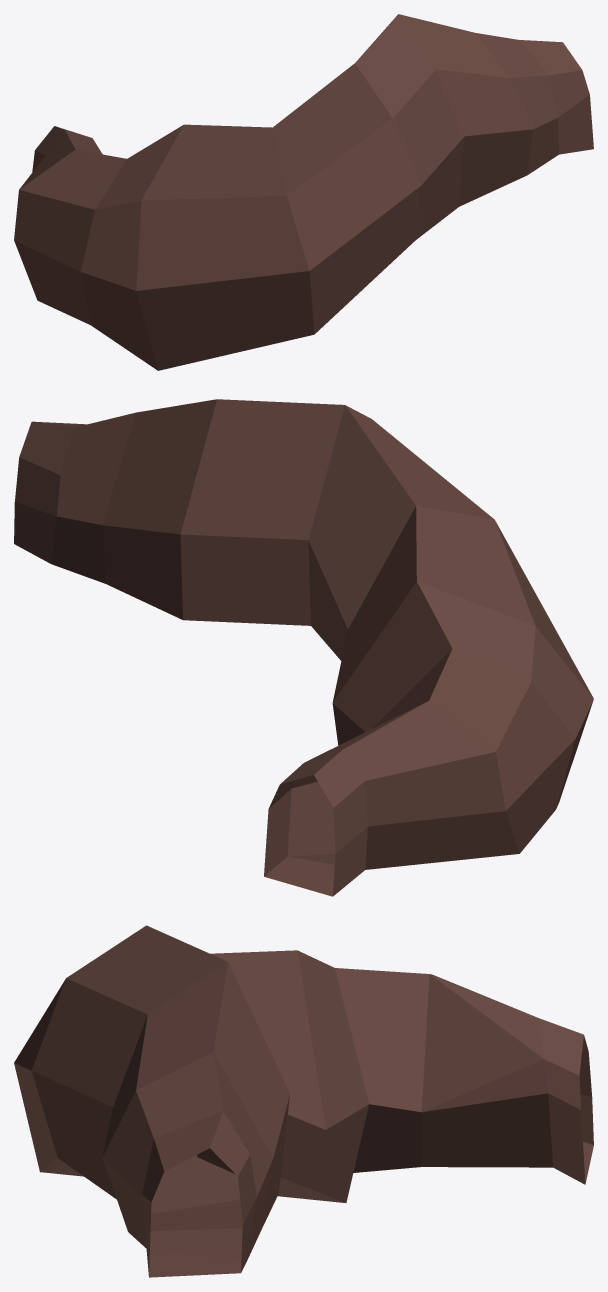
File: Tunnel-B06.fbx
3 renders of one model, top to bottom at view 1: azimuth 30°, elevation 25°; view 2: azimuth 150°, elevation 25°; view 3: azimuth 270°, elevation 25°, orthographic. The views are drawn at different scales.
Parts seen in each view (by area): view 1: Tunnel-B06; view 2: Tunnel-B06; view 3: Tunnel-B06.
Part boxes in pixels (x1,y1,x2,y2): Tunnel-B06: [14, 14, 593, 370]; Tunnel-B06: [14, 399, 593, 896]; Tunnel-B06: [14, 925, 593, 1277].
Bounding box in the file's own units: 1061 × 1350 × 758.
